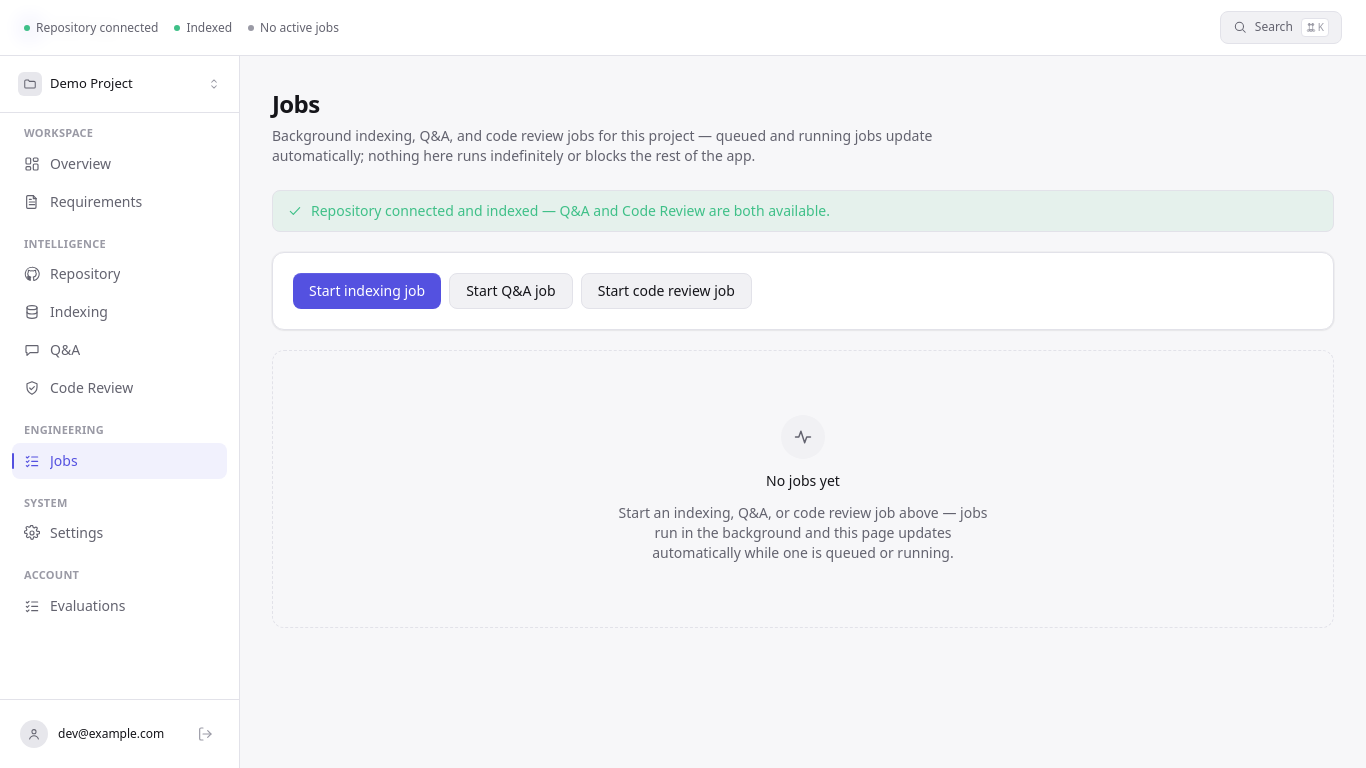
Test: Jobs — actions › shows a real error, not a silent failure, when starting a job fails
Expected: the text "No jobs yet" is shown, [766,471,840,491]
Click the button "Start Q&A job" at (511, 291), box [449,273,573,309]
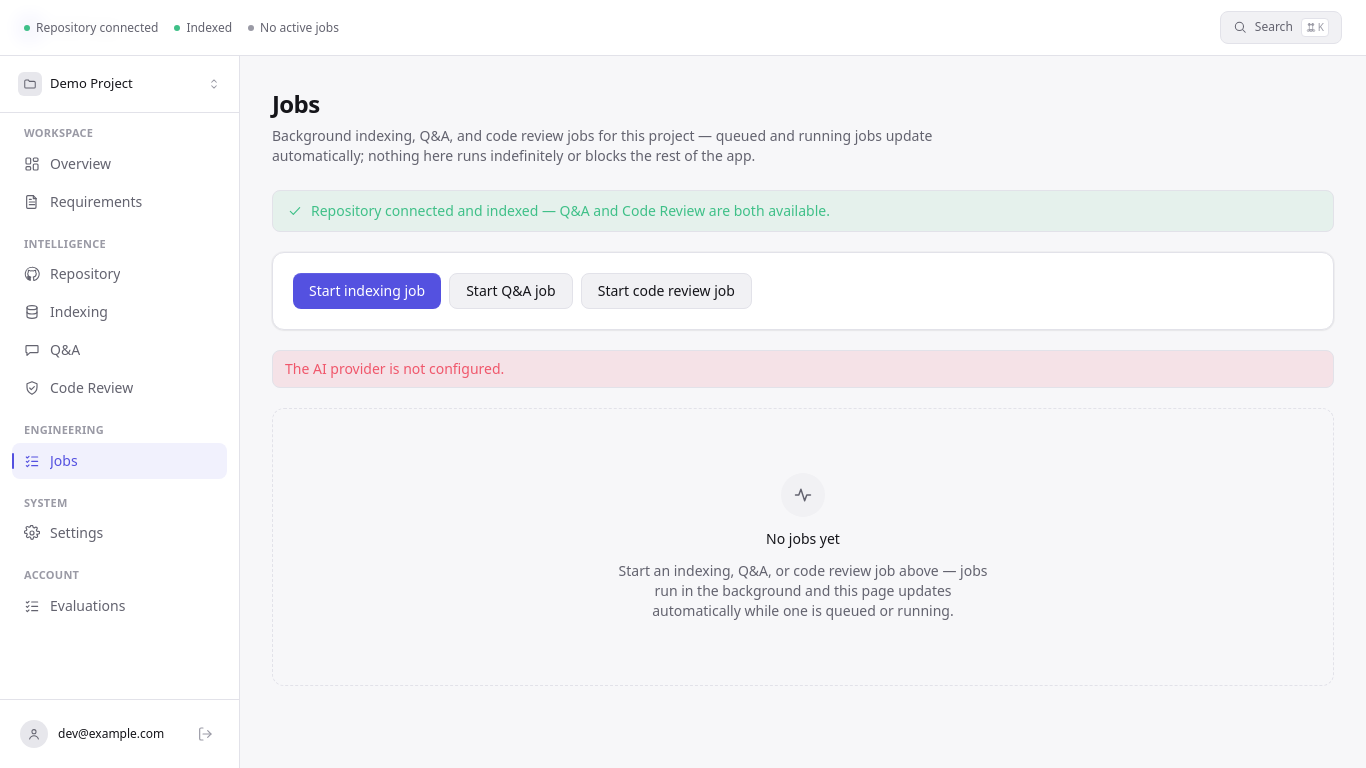
Now the text "The AI provider is not configured." is shown, box [272,350,1334,388]
